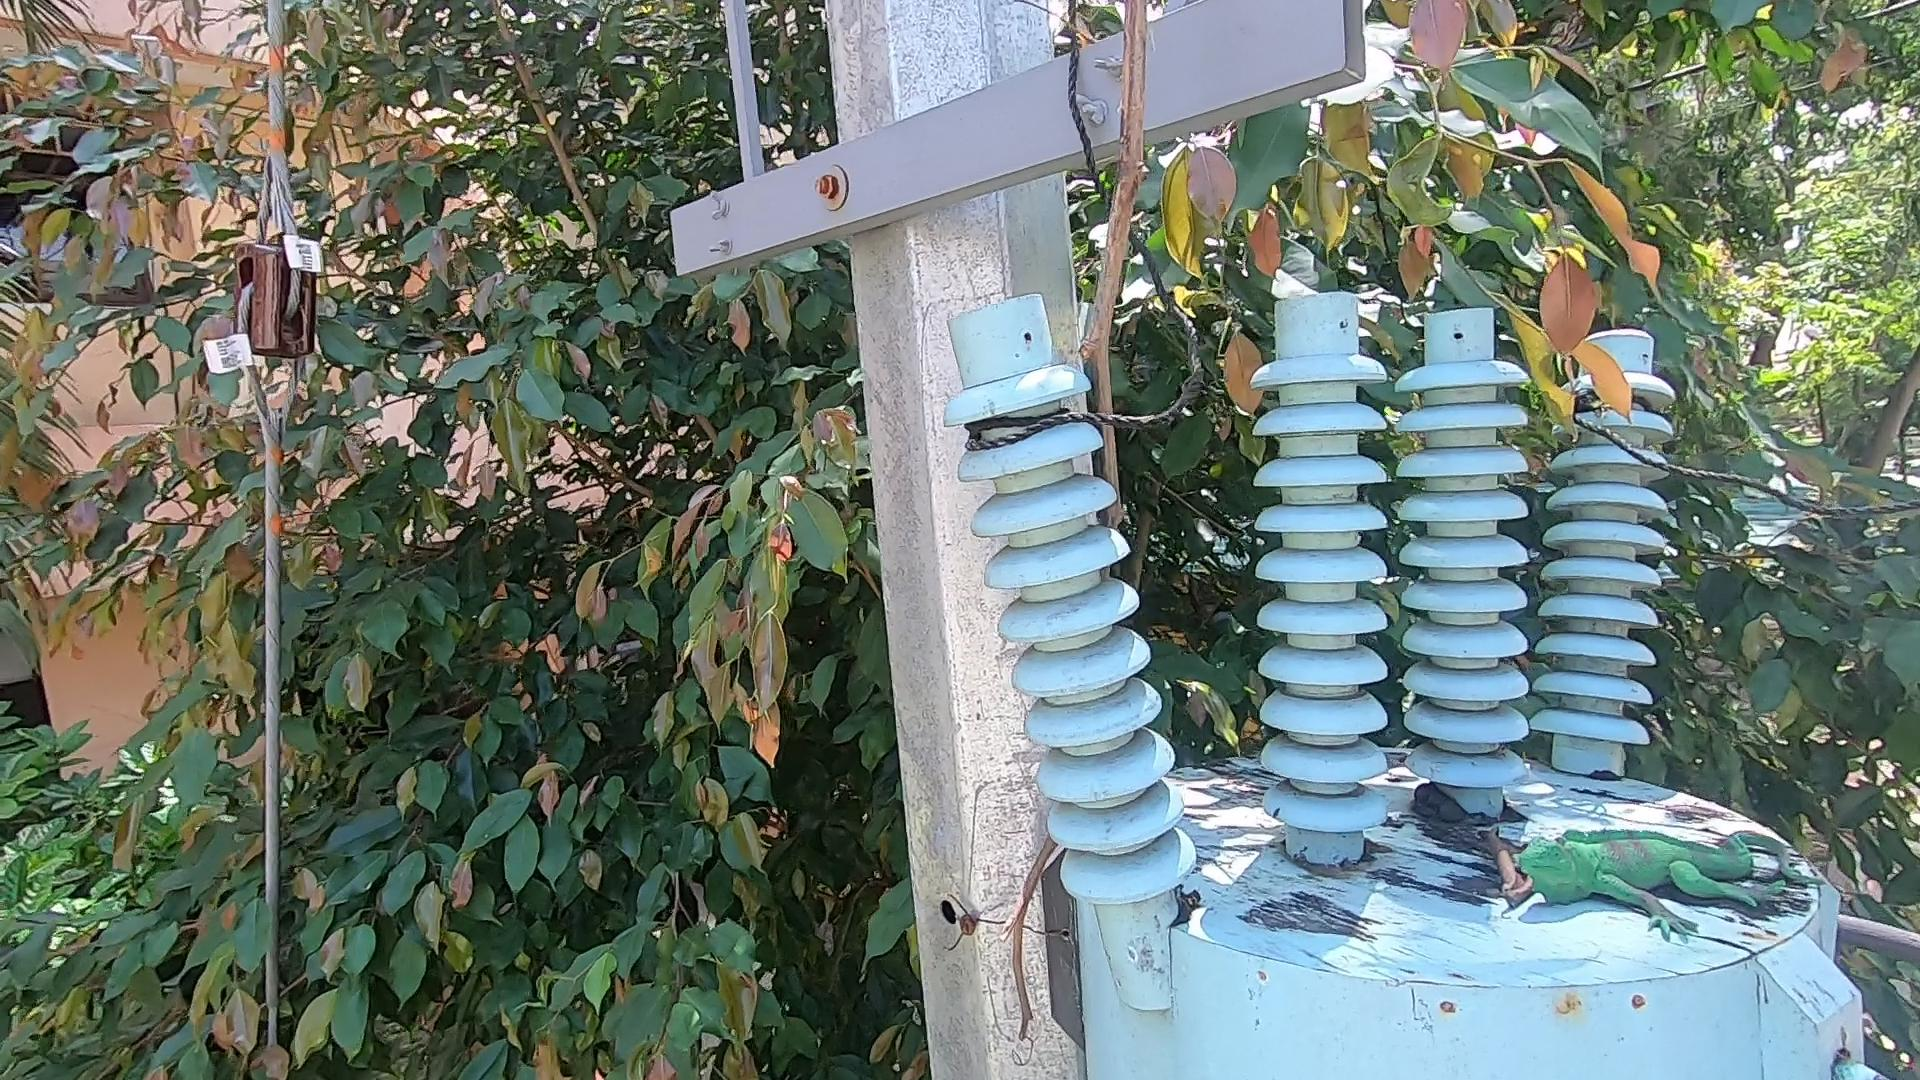branch with leaves: (1415, 255, 1692, 484)
leaf: (1402, 771, 1466, 839), (1477, 827, 1528, 907), (1176, 884, 1226, 938)
tree branch: (947, 3, 1197, 1039)
